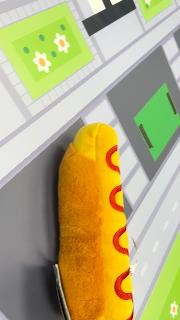hotdog: (57, 123, 134, 320)
